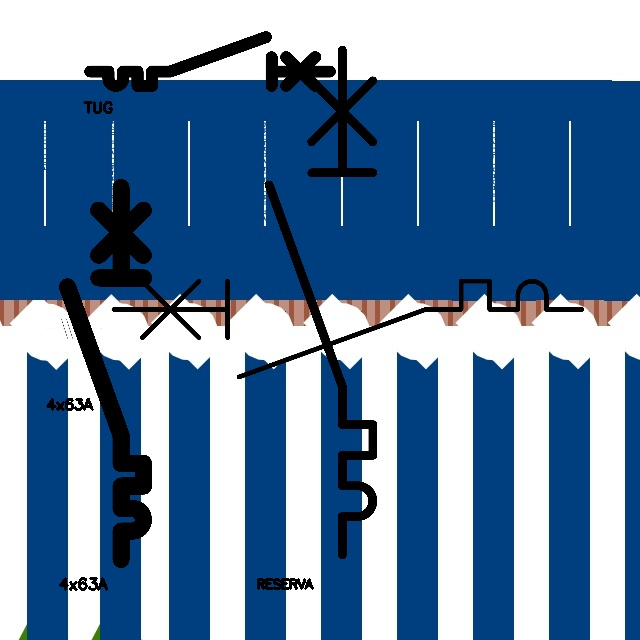interruptor_termomagnetico: (256, 37, 386, 568), (101, 269, 593, 389), (58, 178, 153, 569), (84, 31, 335, 92)
